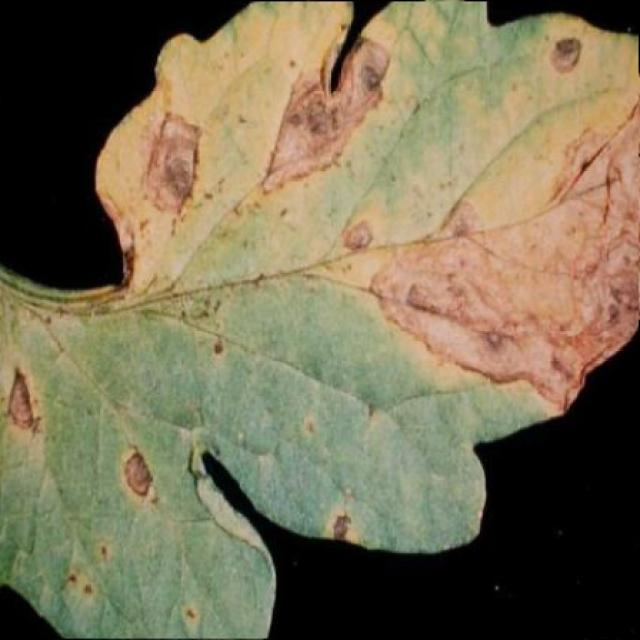Early Blight: (0, 1, 639, 638)
